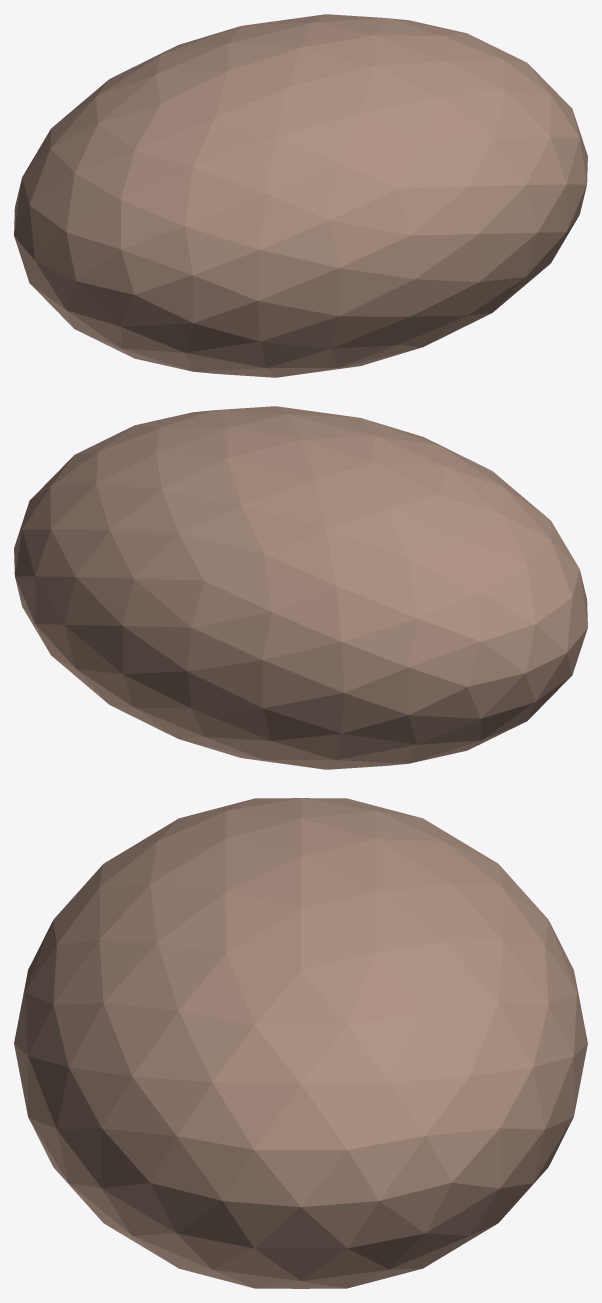
Rendered from martian_rock.glb.
3 views of the same model, one above another, from view 1: azimuth 30°, elevation 25°; view 2: azimuth 150°, elevation 25°; view 3: azimuth 270°, elevation 25° (orthographic). The views are drawn at different scales.
Parts seen in each view (by area): view 1: sample_rock; view 2: sample_rock; view 3: sample_rock.
Boxes of the visible parts, x1,y1,x2,y2 form: sample_rock: [14, 14, 587, 377]; sample_rock: [14, 406, 587, 769]; sample_rock: [14, 798, 587, 1288].
Bounding box in the file's own units: 0.594 × 0.3168 × 0.44.
